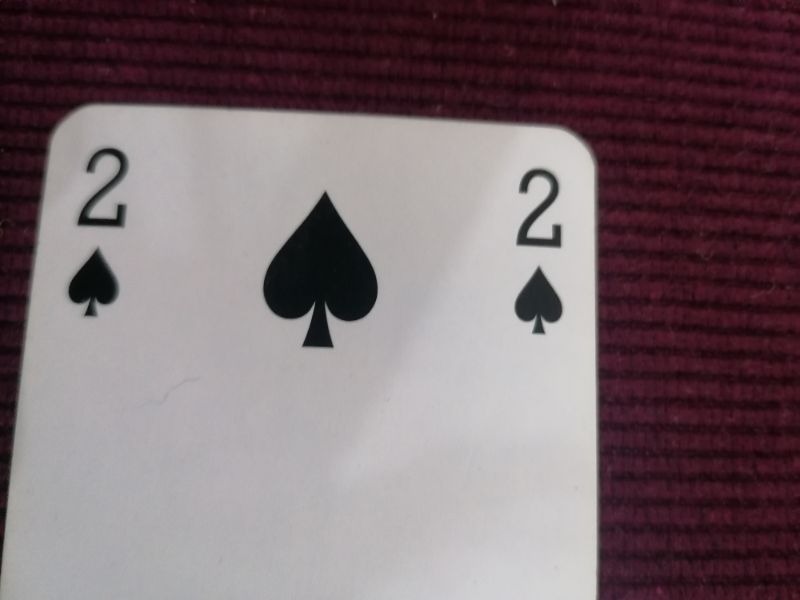2s: (62, 140, 136, 325), (508, 162, 567, 341)
